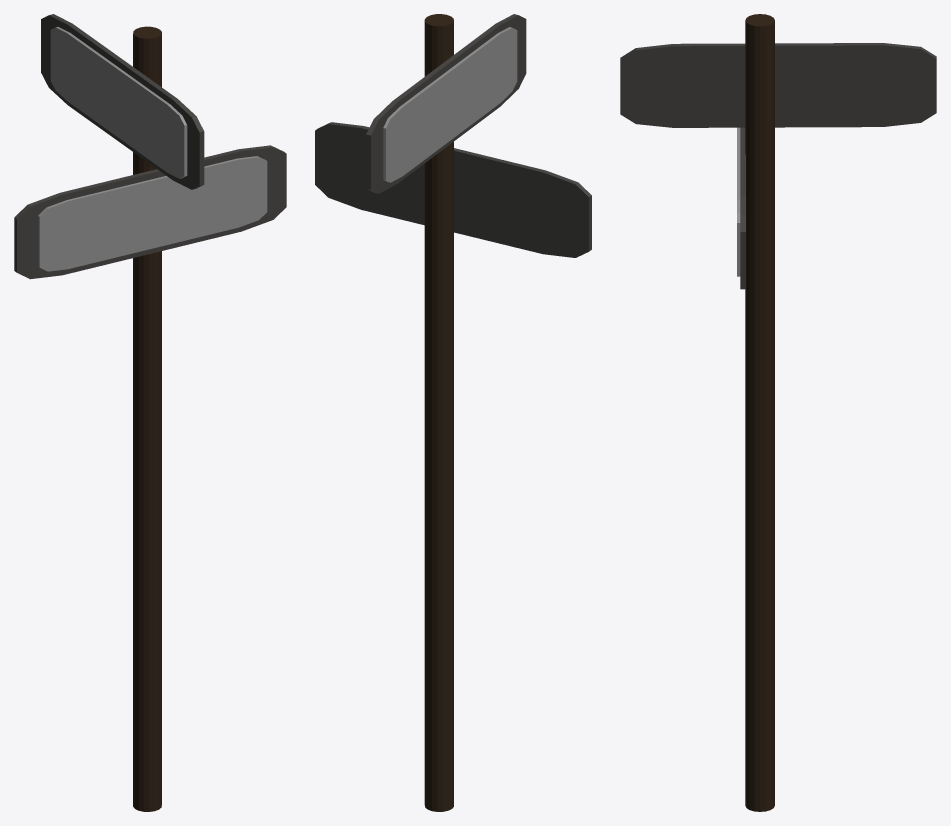
File: StreetSigns.fbx
3 views of the same model, side by side, from view 1: azimuth 30°, elevation 25°; view 2: azimuth 150°, elevation 25°; view 3: azimuth 270°, elevation 25° (orthographic).
Visible parts, largest first — view 1: Plane.002; view 2: Plane.002; view 3: Plane.002.
Part boxes in pixels (box(x1,y1,x2,y2)): Plane.002: box(14, 14, 286, 811); Plane.002: box(315, 14, 591, 811); Plane.002: box(620, 14, 936, 811).
Size of the model in its own units: 281 by 769 by 281.
